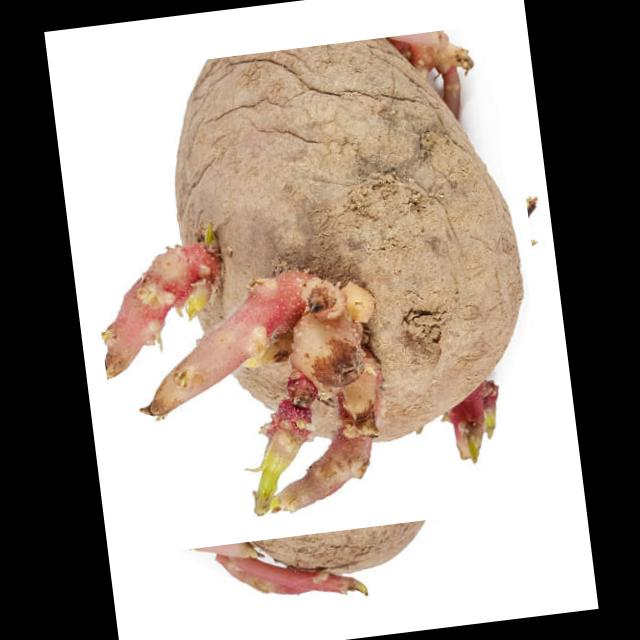Sprouted potato: (68, 22, 562, 556)
